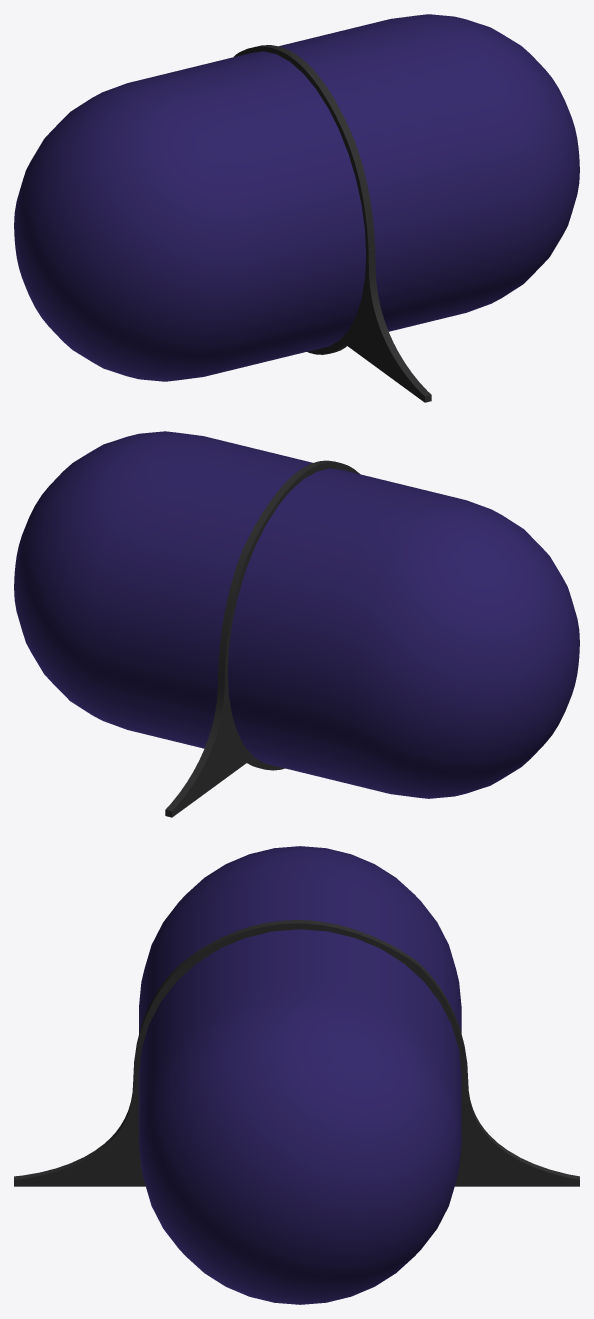
File: pill.fbx
3 renders of one model, top to bottom at view 1: azimuth 30°, elevation 25°; view 2: azimuth 150°, elevation 25°; view 3: azimuth 270°, elevation 25°, orthographic. The views are drawn at different scales.
Visible parts, largest first — view 1: Capsule, Cap_2, Extrude; view 2: Capsule, Cap_2, Extrude; view 3: Capsule, Cap_1, Extrude.
Boxes of the visible parts, left/top/right/bottom form: Capsule: left=14, top=14, right=579, bottom=381; Cap_2: left=233, top=46, right=424, bottom=402; Extrude: left=255, top=45, right=431, bottom=402; Capsule: left=14, top=431, right=579, bottom=798; Cap_2: left=172, top=462, right=359, bottom=817; Extrude: left=165, top=460, right=339, bottom=817; Capsule: left=139, top=846, right=461, bottom=1304; Cap_1: left=14, top=923, right=579, bottom=1186; Extrude: left=14, top=920, right=579, bottom=1179.
Size of the model in its own units: 780 by 405 by 684.
